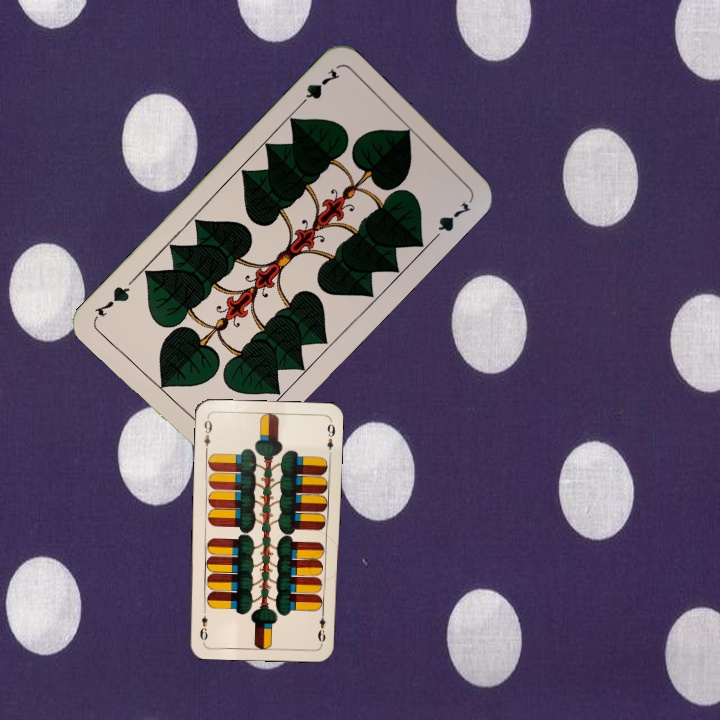E9: (200, 414, 214, 454), (314, 606, 328, 644)
G7: (293, 65, 343, 111)
